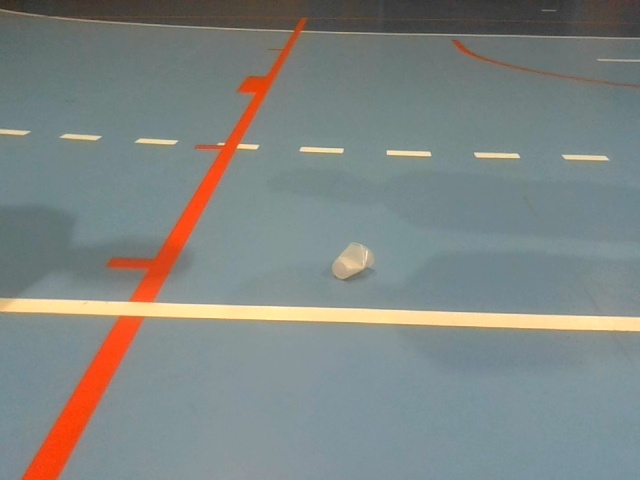plasticcup: (331, 241, 374, 279)
